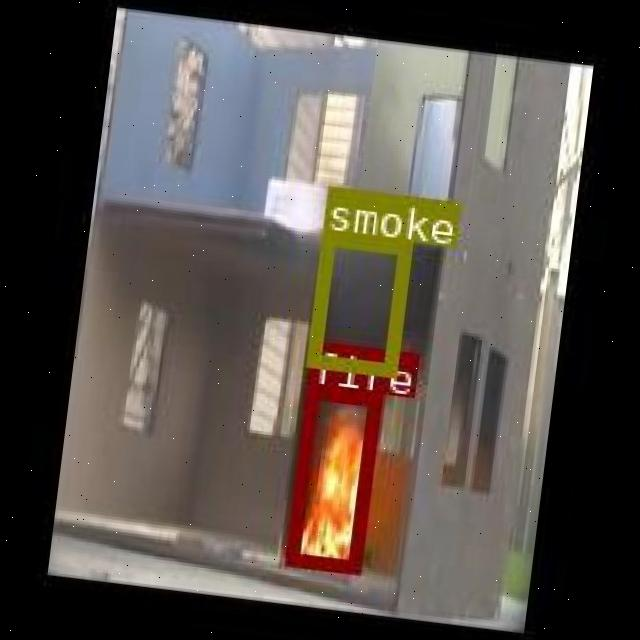fire: (283, 382, 380, 572)
smoke: (304, 228, 408, 374)
